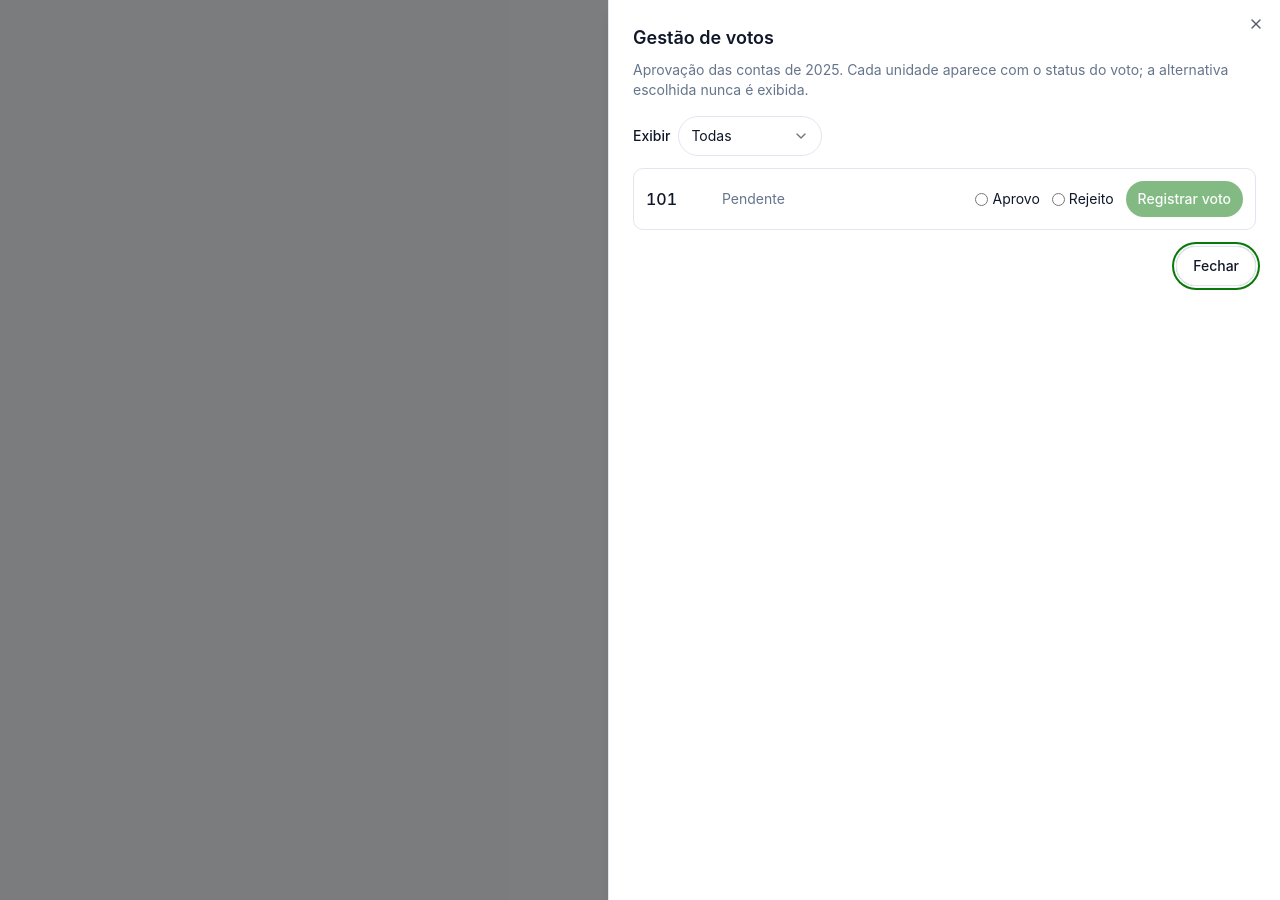
Test: Gestão — lista de status e registro › IT-381: sem alternativa escolhida o envio fica desabilitado
The width and height of the screenshot is (1280, 900).
Expected: the button with aria-label "Registrar voto da unidade 101" is disabled, [1126,181,1243,217]
Click the radio button with aria-label "Aprovo da unidade 101": [982, 199] box [976,192,988,206]
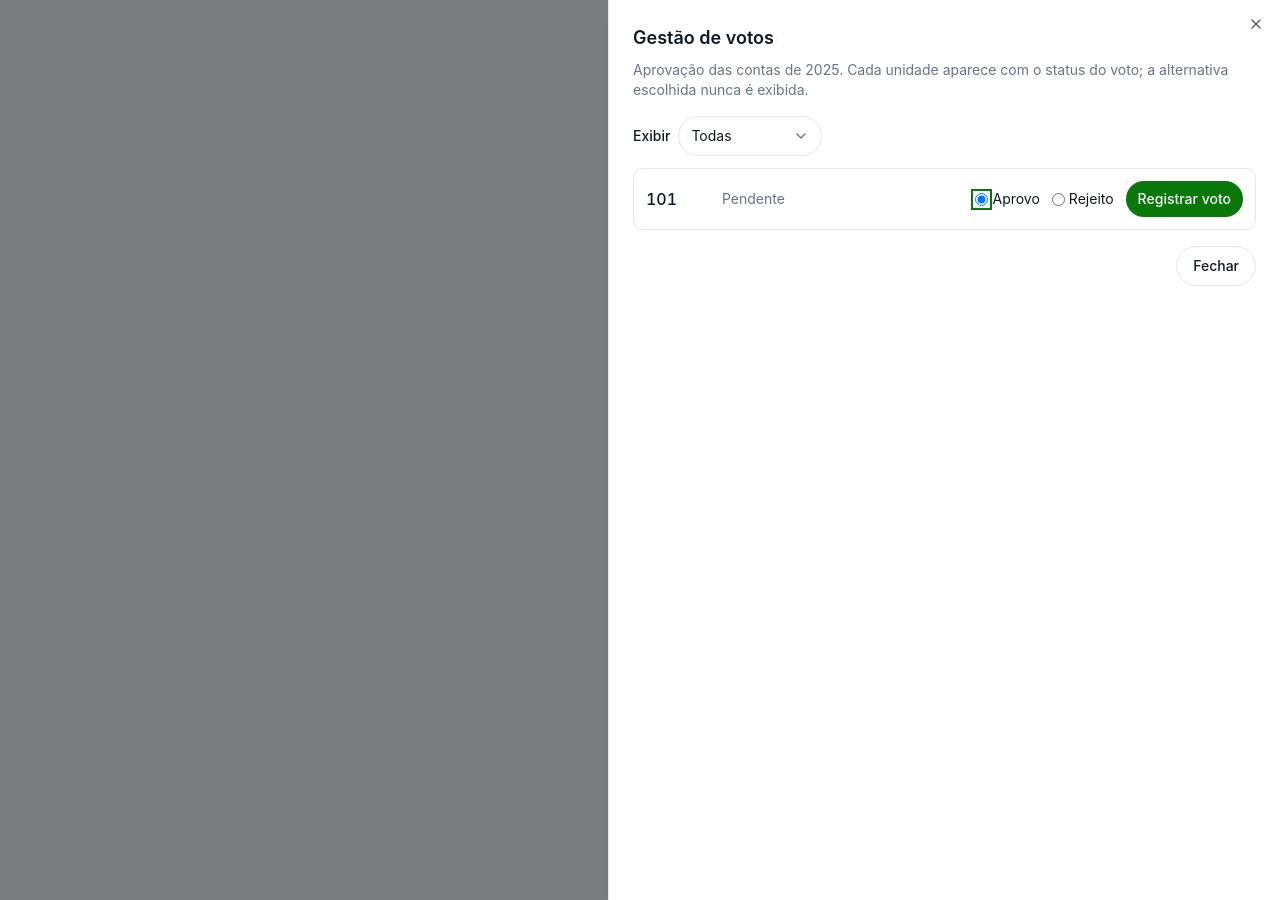
Expected: the button "Registrar voto" is enabled, [1126,181,1243,217]
